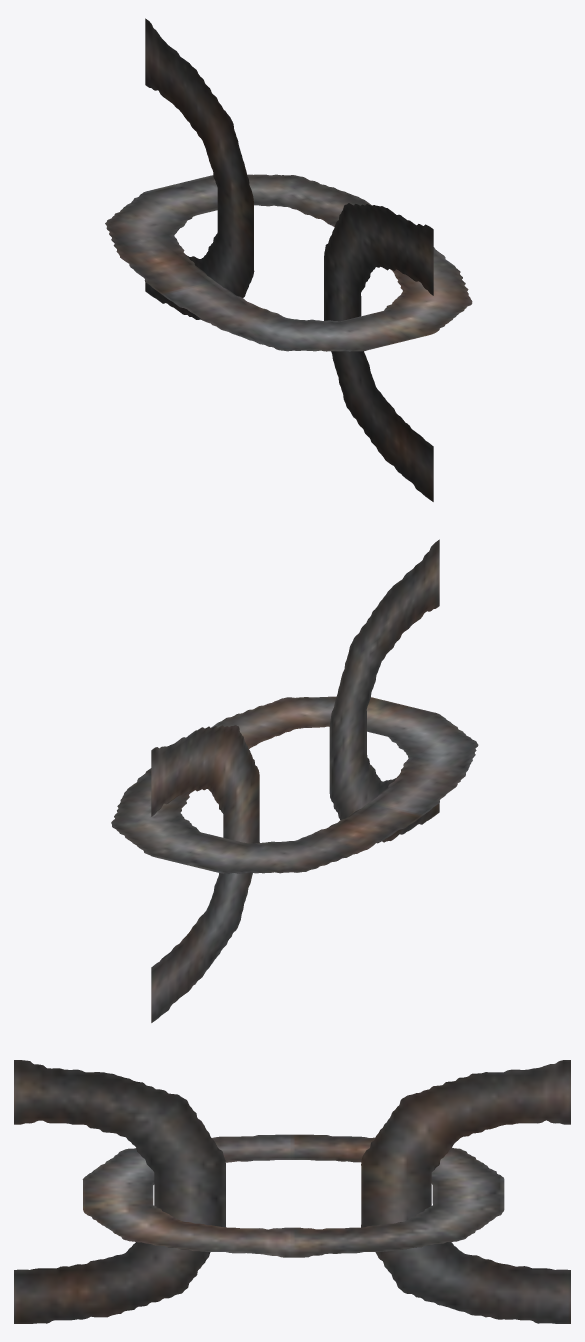
The model's file is Prop_SM_Chain(oneLinkSegment)_v1.fbx.
The picture shows the model from 3 angles, top to bottom: view 1: azimuth 30°, elevation 25°; view 2: azimuth 150°, elevation 25°; view 3: azimuth 270°, elevation 25°; orthographic projection. The views are drawn at different scales.
Visible parts, largest first — view 1: ChainSegment1; view 2: ChainSegment1; view 3: ChainSegment1.
Part boxes in pixels (bbox=[...]): ChainSegment1: bbox=[105, 18, 472, 501]; ChainSegment1: bbox=[111, 539, 478, 1022]; ChainSegment1: bbox=[14, 1060, 570, 1323].
Size of the model in its own units: 0.2241 by 0.2241 by 0.4165.
